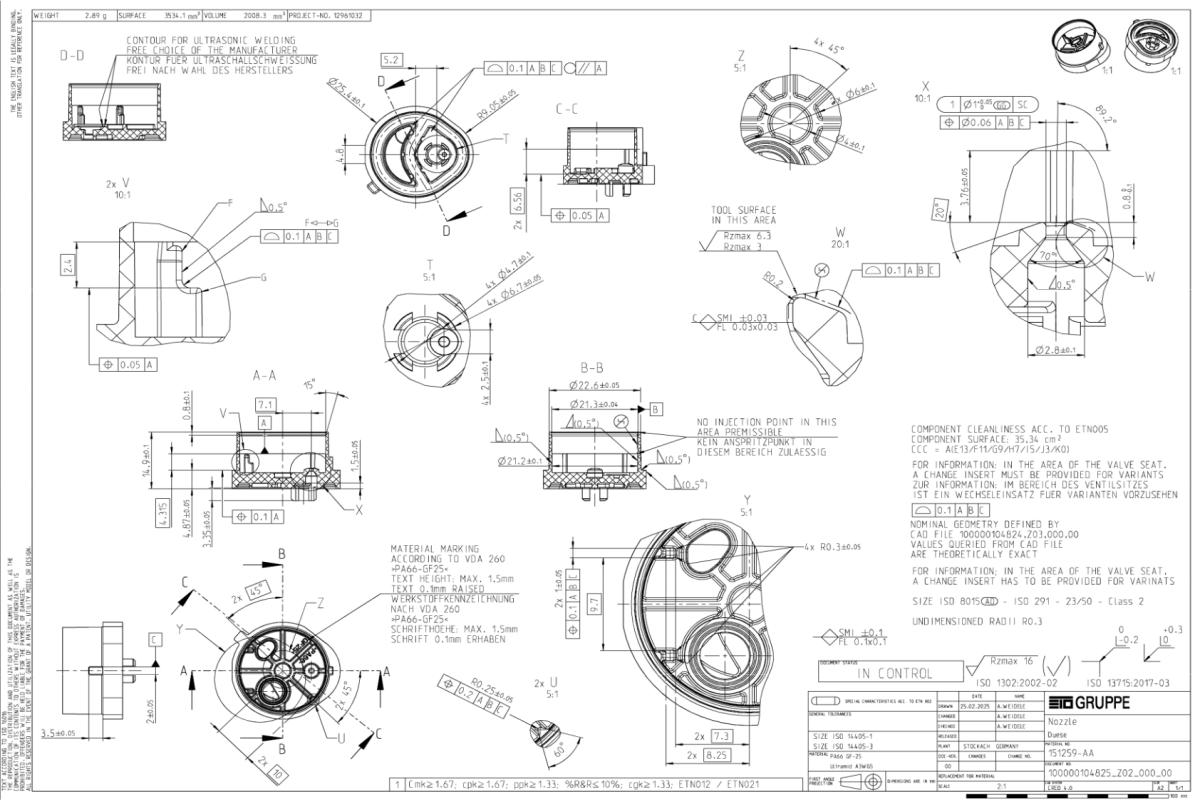falcon_r1: (36, 535, 534, 789), (535, 490, 874, 772), (905, 75, 1166, 370), (307, 33, 618, 246), (55, 171, 352, 381), (652, 194, 944, 404), (478, 352, 850, 513), (128, 354, 373, 553), (351, 245, 551, 413), (55, 28, 328, 149), (712, 17, 884, 189), (492, 98, 666, 239), (411, 663, 610, 774), (1048, 14, 1186, 81)
